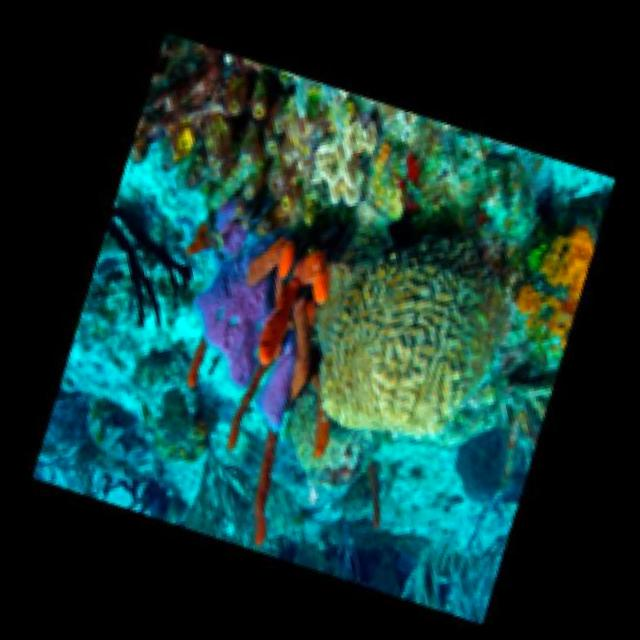Healthy Coral: (265, 177, 575, 500), (110, 153, 346, 486), (97, 21, 307, 213), (243, 81, 436, 256), (486, 197, 613, 365), (113, 342, 231, 511)
